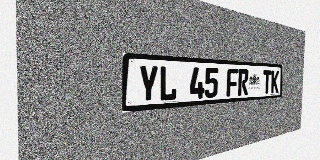4: (189, 67, 205, 99)
5: (204, 68, 218, 98)
F: (226, 68, 238, 97)
K: (271, 70, 279, 93)
L: (159, 66, 177, 102)
R: (238, 69, 249, 96)
T: (262, 70, 271, 94)
Y: (138, 65, 158, 103)
